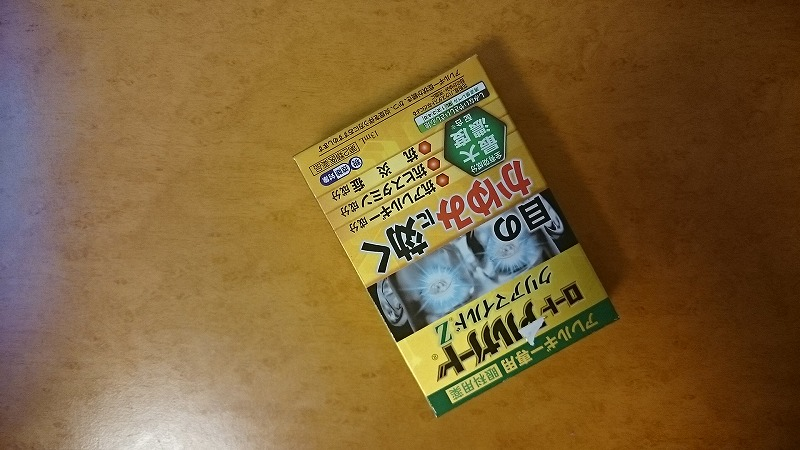C: (282, 48, 628, 427)
